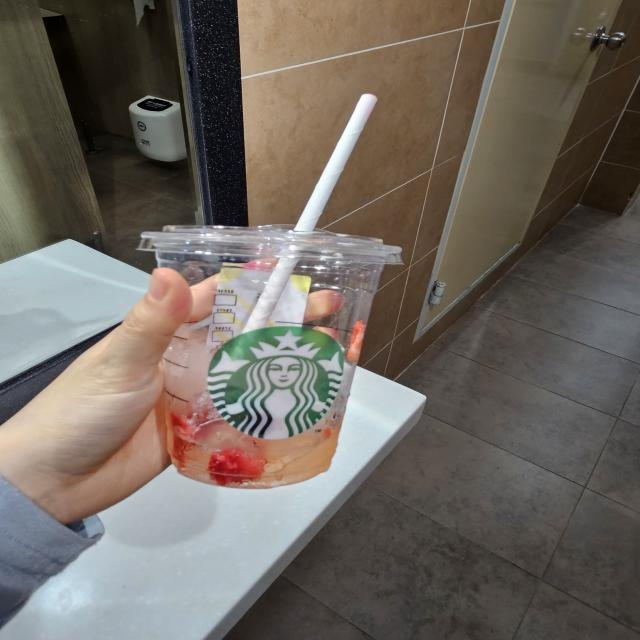cup: (122, 208, 410, 492)
